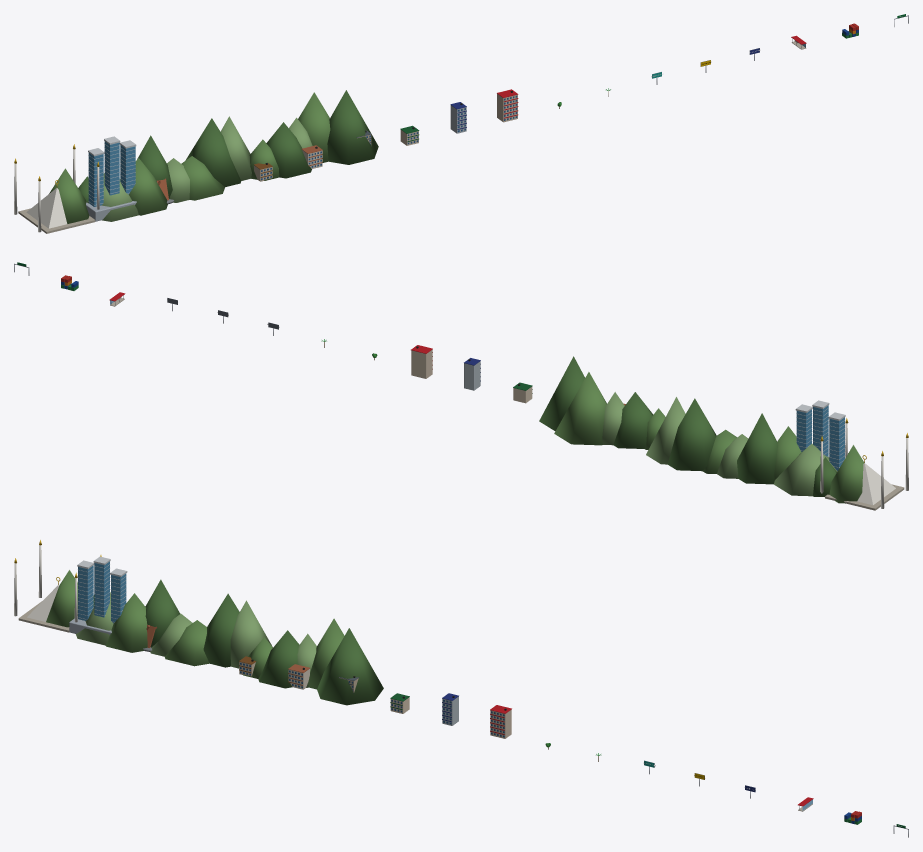
Rendered from scenery.glb.
3 renders of one model, top to bottom at view 1: azimuth 30°, elevation 25°; view 2: azimuth 150°, elevation 25°; view 3: azimuth 330°, elevation 25°, orthographic. The views are drawn at different scales.
Visible parts, largest first — view 1: margalla_hills, centaurus, faisal_mosque, building_5, building_4; view 2: margalla_hills, centaurus, faisal_mosque, building_5, building_4; view 3: margalla_hills, centaurus, faisal_mosque, building_5.
Part boxes in pixels (x1,y1,x2,y2): margalla_hills: (49,90,378,223); centaurus: (86,136,136,221); faisal_mosque: (14,144,99,233); building_5: (497,89,518,122); building_4: (450,102,466,133); margalla_hills: (539,356,864,503); centaurus: (795,400,845,470); faisal_mosque: (820,418,908,510); building_5: (411,345,432,378); building_4: (464,358,480,390); margalla_hills: (46,570,383,705); centaurus: (69,556,127,634); faisal_mosque: (14,540,101,632); building_5: (490,705,511,738).
Bounding box in the file's own units: 711 × 55.2 × 58.37.
